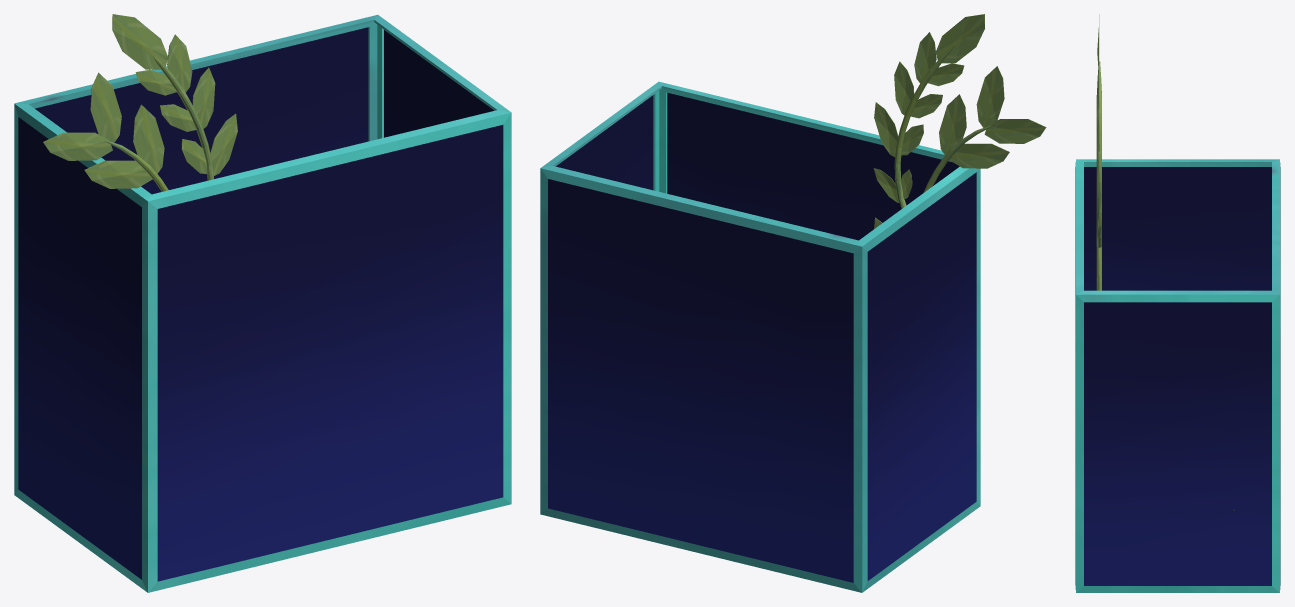
The model's file is Acquario.fbx.
3 renders of one model, left to right at view 1: azimuth 30°, elevation 25°; view 2: azimuth 150°, elevation 25°; view 3: azimuth 270°, elevation 25°, orthographic. The views are drawn at different scales.
Visible parts, largest first — view 1: Acquario; view 2: Acquario; view 3: Acquario.
Boxes of the visible parts, x1=… form: Acquario: x1=14, y1=14, x2=511, y2=592; Acquario: x1=540, y1=14, x2=1046, y2=592; Acquario: x1=1075, y1=14, x2=1280, y2=592.
Bounding box in the file's own units: 151 × 182 × 77.76.
